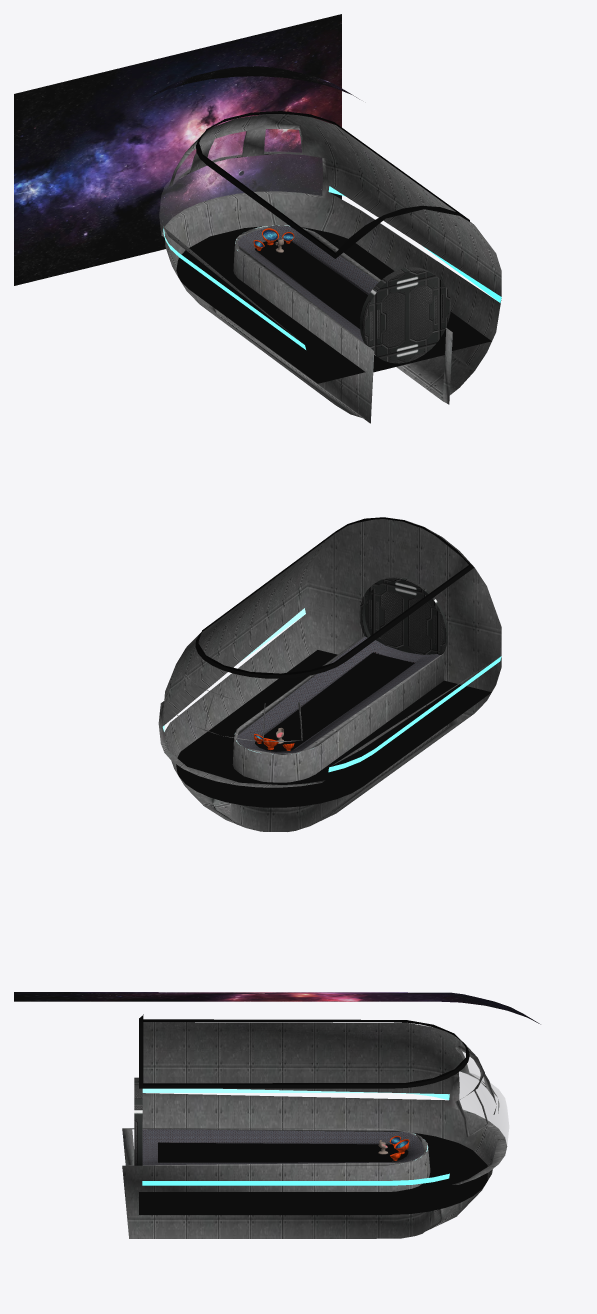
The model's file is sci-fi_spaceship_bridge-transformed.glb.
The picture shows the model from 3 angles, top to bottom: view 1: azimuth 30°, elevation 25°; view 2: azimuth 150°, elevation 25°; view 3: azimuth 270°, elevation 25°; orthographic projection. The views are drawn at different scales.
Visible parts, largest first — view 1: Sci-Fi Space Station; view 2: Sci-Fi Space Station; view 3: Sci-Fi Space Station.
Part boxes in pixels (x1=…): Sci-Fi Space Station: x1=14, y1=14, x2=501, y2=423; Sci-Fi Space Station: x1=158, y1=517, x2=501, y2=831; Sci-Fi Space Station: x1=14, y1=992, x2=540, y2=1238.
Bounding box in the file's own units: 33.37 × 21.69 × 51.23.
Materials: 13 (6 with a texture image).
